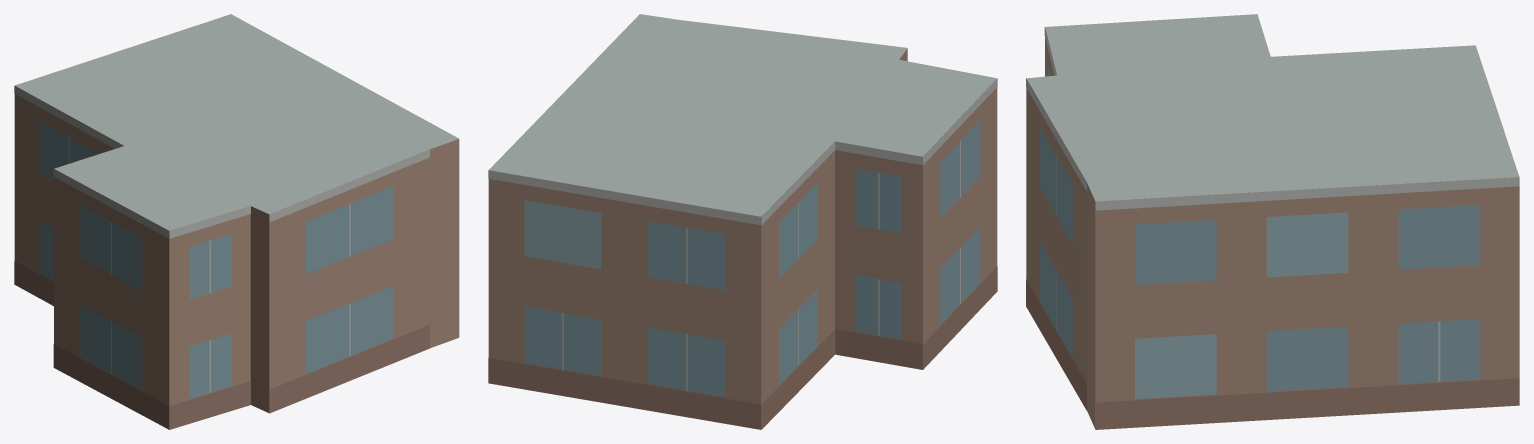
File: survey-upis-32617351.glb
The picture shows the model from 3 angles, left to right: view 1: azimuth 30°, elevation 25°; view 2: azimuth 150°, elevation 25°; view 3: azimuth 270°, elevation 25°; orthographic projection. The views are drawn at different scales.
Visible parts, largest first — view 1: survey-upis-32617351.tmp; view 2: survey-upis-32617351.tmp; view 3: survey-upis-32617351.tmp.
Boxes of the visible parts, box(x1,y1,x2,y2) form: survey-upis-32617351.tmp: box(14, 14, 459, 429); survey-upis-32617351.tmp: box(488, 14, 997, 429); survey-upis-32617351.tmp: box(1026, 14, 1519, 429).
Bounding box in the file's own units: 10.76 × 6.1 × 11.96.
